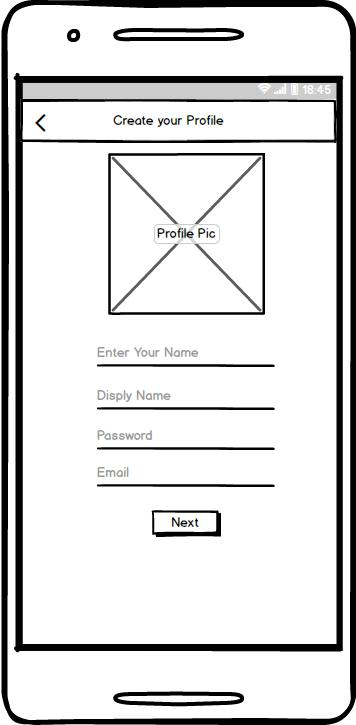EditText: (97, 347, 275, 368), (97, 389, 275, 410), (97, 430, 275, 451), (97, 466, 275, 487)
Icon: (35, 115, 48, 132)
Image: (109, 154, 266, 316)
Text: (114, 115, 224, 128)
TextButton: (152, 510, 222, 537)
